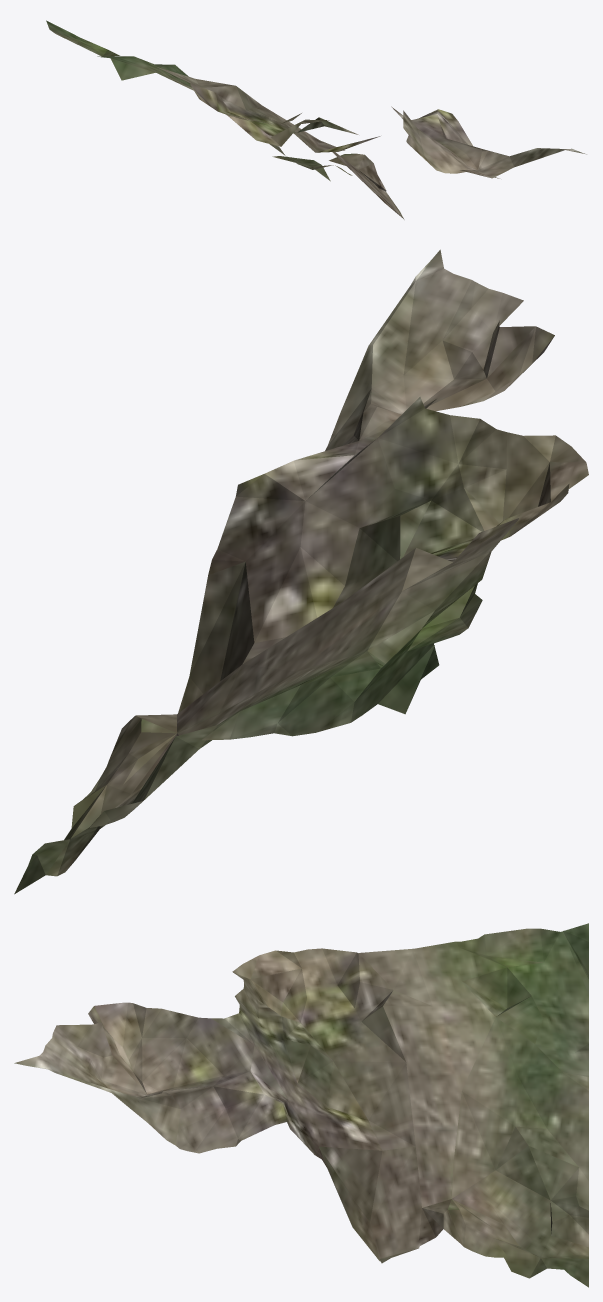
The picture shows the model from 3 angles, top to bottom: view 1: azimuth 30°, elevation 25°; view 2: azimuth 150°, elevation 25°; view 3: azimuth 270°, elevation 25°; orthographic projection. The views are drawn at different scales.
Size of the model in its own units: 2.12 by 1.58 by 3.68.
Materials: 1 (1 with a texture image).
